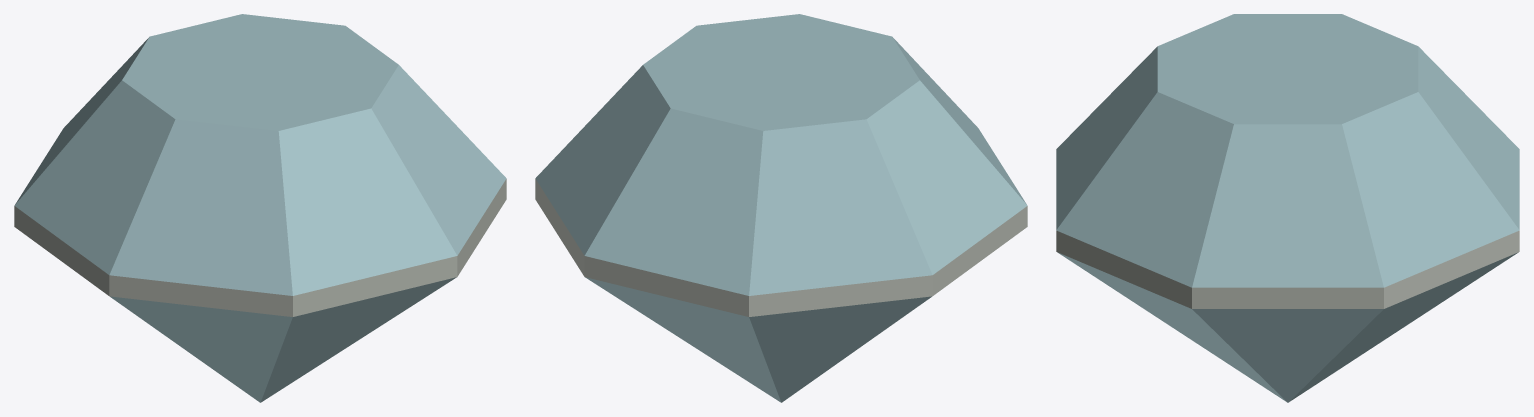
The model's file is item_crystal_diamond.glb.
3 renders of one model, left to right at view 1: azimuth 30°, elevation 25°; view 2: azimuth 150°, elevation 25°; view 3: azimuth 270°, elevation 25°, orthographic.
Visible parts, largest first — view 1: item_crystal_diamond; view 2: item_crystal_diamond; view 3: item_crystal_diamond.
Part boxes in pixels (left/top/right/bottom): item_crystal_diamond: left=14, top=14, right=506, bottom=402; item_crystal_diamond: left=535, top=14, right=1027, bottom=402; item_crystal_diamond: left=1056, top=14, right=1519, bottom=402.
Size of the model in its own units: 0.2956 by 0.235 by 0.2956.
